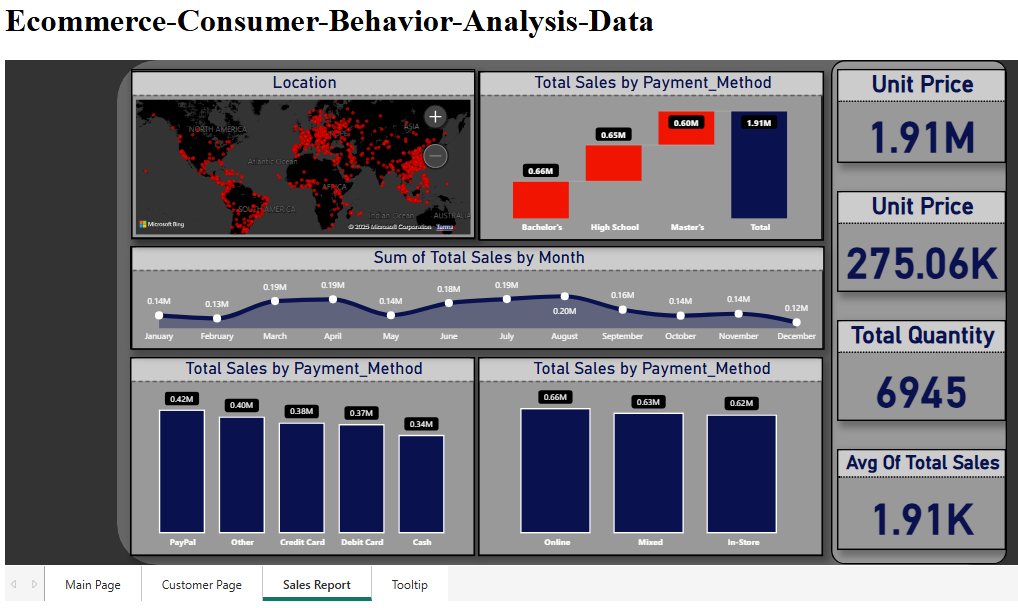

This screenshot's page, from the dashboard's own definition file:
{"tool":"powerbi","page":{"name":"Sales Report","canvas":[1280,720],"ordinal":2},"visuals":[{"type":"shape","box":[1028.6,13.2,251.3,144],"z":0},{"type":"shape","box":[10.3,0,1269.6,720],"z":1000},{"type":"shape","box":[1028.6,0,251.3,720],"z":2000},{"type":"card","title":"Total Quantity","fields":{"Values":["Sum(Ecommerce_Consumer_Behavior_Analysis_Data.Quantity )"]},"box":[1035.9,370.3,241,144],"z":3000},{"type":"card","title":"Unit Price","fields":{"Values":["Sum(Ecommerce_Consumer_Behavior_Analysis_Data.Total Sales)"]},"box":[1035.9,13.2,241,133.7],"z":4000},{"type":"shape","box":[27.9,423.2,492.2,283.6],"z":5000},{"type":"columnChart","title":"Total Sales by Payment_Method","fields":{"Category":["Ecommerce_Consumer_Behavior_Analysis_Data.Payment_Method"],"Y":["Sum(Ecommerce_Consumer_Behavior_Analysis_Data.Total Sales)"]},"box":[27.9,423.2,492.2,283.6],"z":6000},{"type":"shape","box":[524.6,423.2,492.2,283.6],"z":7000},{"type":"columnChart","title":"Total Sales by Payment_Method","fields":{"Y":["Sum(Ecommerce_Consumer_Behavior_Analysis_Data.Total Sales)"],"Category":["Ecommerce_Consumer_Behavior_Analysis_Data.Purchase_Channel"]},"box":[524.6,423.2,492.2,283.6],"z":8000},{"type":"shape","box":[27.9,264.5,988.9,148.4],"z":9000},{"type":"lineChart","fields":{"Category":["Ecommerce_Consumer_Behavior_Analysis_Data.Time_of_Purchase.Variation.Date Hierarchy.Month"],"Y":["Sum(Ecommerce_Consumer_Behavior_Analysis_Data.Total Sales)"]},"box":[29.4,264.5,988.9,148.4],"z":10000},{"type":"card","title":"Unit Price","fields":{"Values":["Sum(Ecommerce_Consumer_Behavior_Analysis_Data.Unit Price_Amount)"]},"box":[1035.9,186.6,241,144],"z":11000},{"type":"card","title":"Avg Of Total Sales","fields":{"Values":["Avg(Ecommerce_Consumer_Behavior_Analysis_Data.Total Sales)"]},"box":[1035.9,554,241,144],"z":12000},{"type":"shape","box":[29.4,13.2,490.8,242.4],"z":13000},{"type":"map","fields":{"Category":["Ecommerce_Consumer_Behavior_Analysis_Data.Location"]},"box":[29.4,16.2,490.8,239.5],"z":14000},{"type":"shape","box":[524.6,16.2,492.2,242.4],"z":15000},{"type":"waterfallChart","title":"Total Sales by Payment_Method","fields":{"Category":["Ecommerce_Consumer_Behavior_Analysis_Data.Education_Level"],"Y":["Sum(Ecommerce_Consumer_Behavior_Analysis_Data.Total Sales)"]},"box":[526,16.2,492.2,242.4],"z":16000}]}

Visuals, with their boxes on the page's 1280x720 design canvas (x1, y1, x2, y2). These are canvas units, not pixel positions in the 1018x608 screenshot, which may show the page scaled, cropped or inside an application window:
shape: bbox(1029, 13, 1280, 157)
shape: bbox(10, 0, 1280, 720)
shape: bbox(1029, 0, 1280, 720)
"Total Quantity" card: bbox(1036, 370, 1277, 514)
"Unit Price" card: bbox(1036, 13, 1277, 147)
shape: bbox(28, 423, 520, 707)
"Total Sales by Payment_Method" columnChart: bbox(28, 423, 520, 707)
shape: bbox(525, 423, 1017, 707)
"Total Sales by Payment_Method" columnChart: bbox(525, 423, 1017, 707)
shape: bbox(28, 264, 1017, 413)
lineChart - Ecommerce_Consumer_Behavior_Analysis_Data.Time_of_Purchase.Variation.Date Hierarchy.Month x Sum(Ecommerce_Consumer_Behavior_Analysis_Data.Total Sales): bbox(29, 264, 1018, 413)
"Unit Price" card: bbox(1036, 187, 1277, 331)
"Avg Of Total Sales" card: bbox(1036, 554, 1277, 698)
shape: bbox(29, 13, 520, 256)
map - Ecommerce_Consumer_Behavior_Analysis_Data.Location: bbox(29, 16, 520, 256)
shape: bbox(525, 16, 1017, 259)
"Total Sales by Payment_Method" waterfallChart: bbox(526, 16, 1018, 259)
